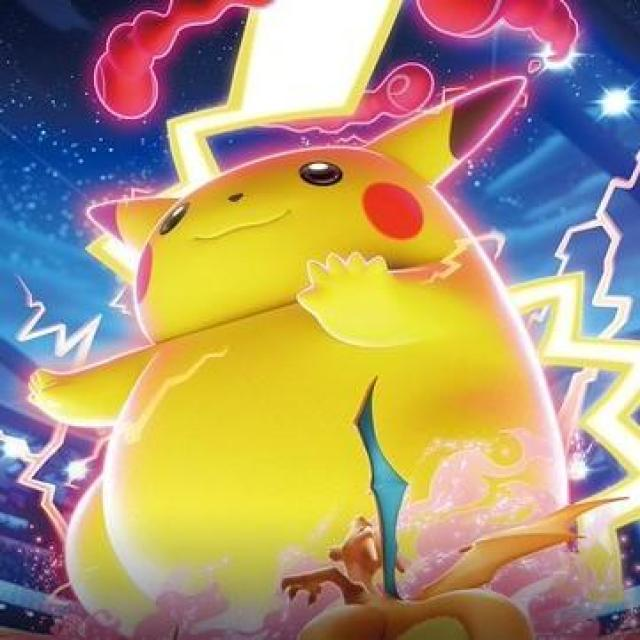pikachu: (35, 75, 568, 628)
